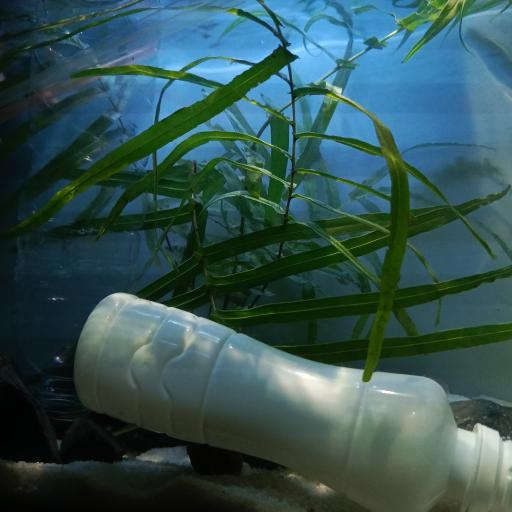plastic_bottle: (73, 293, 512, 512), (3, 0, 158, 419)
plastic_straw: (0, 0, 244, 120), (3, 1, 242, 104)
